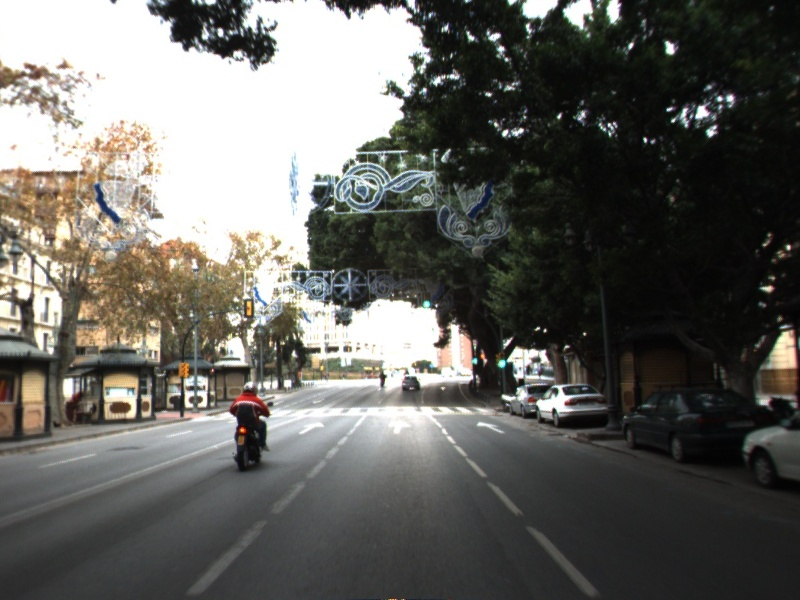STRAIGHT: (474, 419, 508, 436), (296, 419, 327, 436), (385, 417, 413, 435)
